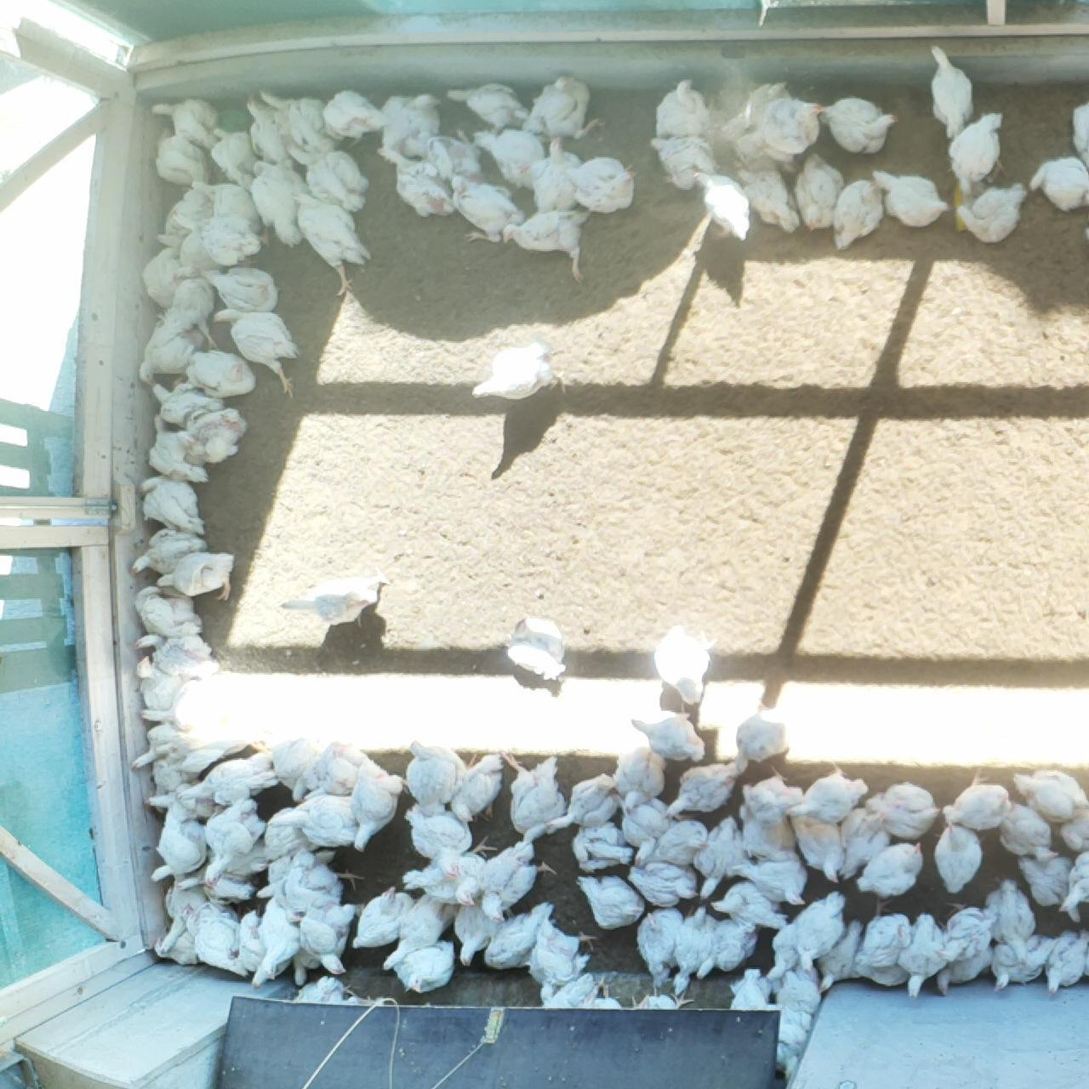chicken: (289, 189, 372, 297), (210, 305, 301, 399), (401, 832, 499, 908), (502, 207, 591, 282), (348, 754, 415, 853), (479, 837, 556, 923), (377, 894, 457, 973), (471, 339, 568, 404), (177, 745, 281, 805), (502, 749, 566, 846), (527, 918, 600, 1003), (286, 140, 372, 212), (280, 569, 388, 625), (283, 846, 369, 916), (518, 74, 609, 140), (258, 90, 339, 164), (377, 145, 455, 219), (447, 171, 525, 245), (945, 112, 1010, 199), (138, 670, 226, 734), (654, 621, 720, 706), (202, 797, 265, 884), (272, 789, 366, 847), (250, 158, 310, 247), (738, 97, 824, 158), (402, 805, 474, 877), (473, 124, 549, 192), (789, 889, 849, 975), (927, 44, 980, 141), (542, 772, 621, 836), (301, 737, 373, 807), (785, 762, 871, 820), (871, 166, 950, 229), (628, 703, 708, 765), (483, 902, 555, 970), (668, 905, 721, 997), (402, 739, 466, 815), (820, 97, 901, 157), (501, 612, 571, 681), (954, 181, 1029, 245), (734, 164, 802, 234), (145, 411, 211, 483), (981, 877, 1037, 961), (693, 911, 759, 982), (137, 314, 202, 386), (442, 79, 530, 132), (127, 716, 210, 772), (1016, 852, 1083, 921), (299, 895, 356, 976), (176, 401, 247, 466), (158, 266, 217, 344), (148, 810, 211, 883), (572, 871, 648, 931), (728, 704, 792, 775), (531, 134, 585, 218), (864, 782, 942, 840), (419, 124, 487, 190), (697, 816, 748, 904), (567, 153, 639, 215), (148, 374, 226, 431), (855, 894, 915, 968), (692, 167, 752, 241), (897, 910, 948, 997), (726, 857, 813, 908), (126, 526, 208, 580), (663, 761, 742, 817), (378, 90, 445, 156), (184, 908, 250, 975), (854, 840, 930, 898), (787, 812, 847, 885), (190, 177, 263, 236), (235, 909, 288, 990), (152, 549, 236, 600), (265, 734, 326, 804), (791, 150, 843, 232), (133, 632, 221, 680), (137, 473, 204, 536), (719, 80, 793, 137), (943, 768, 1013, 828), (448, 749, 503, 825), (1012, 768, 1089, 822), (995, 800, 1061, 863), (250, 852, 306, 926), (831, 178, 885, 254), (351, 884, 414, 949), (621, 796, 677, 869), (933, 898, 994, 965), (840, 806, 893, 883), (198, 265, 278, 316), (635, 906, 684, 989), (156, 877, 207, 956), (133, 583, 206, 638), (819, 919, 871, 996), (649, 136, 720, 192), (256, 893, 302, 979), (184, 346, 257, 400), (611, 744, 668, 812), (709, 879, 788, 928), (986, 935, 1056, 990), (392, 935, 455, 996), (652, 78, 712, 142), (930, 822, 983, 894), (168, 208, 220, 281), (195, 212, 264, 267), (1027, 153, 1089, 214), (150, 98, 224, 149), (319, 89, 388, 142), (141, 780, 222, 825), (153, 183, 210, 246), (151, 127, 210, 187), (450, 897, 499, 969), (736, 806, 799, 862), (171, 864, 257, 905), (624, 861, 699, 908), (932, 944, 996, 999), (570, 818, 636, 871), (243, 92, 290, 166), (742, 767, 804, 822), (151, 746, 216, 798), (1042, 925, 1089, 996), (262, 804, 315, 865), (646, 818, 710, 868), (139, 243, 187, 309), (134, 655, 185, 716), (207, 127, 255, 190), (196, 713, 260, 759), (205, 836, 275, 877), (539, 971, 603, 1012), (724, 967, 774, 1016), (761, 922, 800, 984), (852, 950, 912, 990), (774, 968, 822, 1016), (178, 898, 240, 930), (630, 987, 692, 1018), (1058, 851, 1089, 912), (291, 975, 346, 1009), (1052, 805, 1089, 855), (153, 931, 200, 970), (288, 937, 324, 985), (775, 1004, 816, 1045), (1069, 98, 1089, 175), (771, 1042, 801, 1082)
